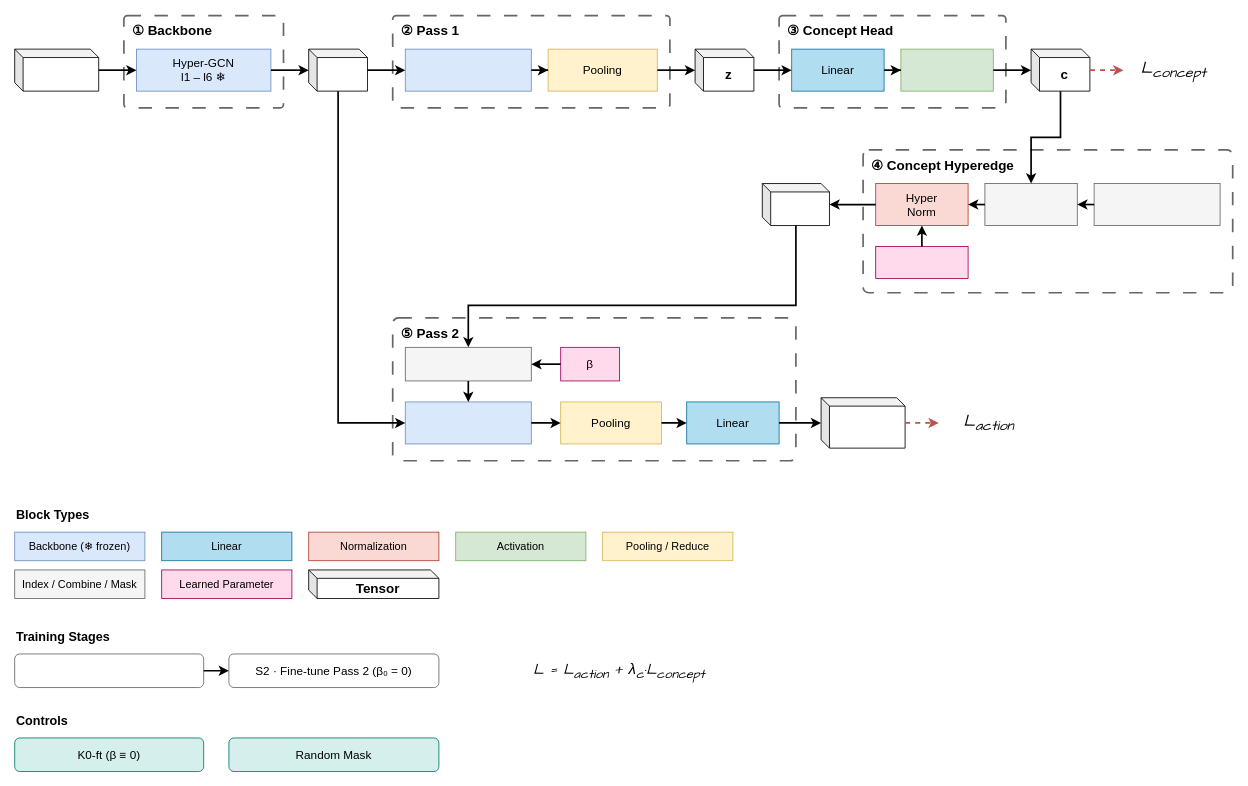
This 1248x786 diagram has some shape labels left out. Here are the shapes that lost their labels. From the top down, the centre of each, then its label:
the point at 56,69: Skeleton
the point at 338,69: F 6
the point at 467,69: Hyper-GCN l7 – l9 ❄
the point at 946,69: Sigmoid
the point at 795,204: G KG
the point at 1030,204: Weight by c
the point at 1156,204: Concept → Joint Mask
the point at 921,262: W KG
the point at 467,363: A + β·G KG
the point at 467,422: Hyper-GCN l7′ – l9′
the point at 862,422: Action logits
the point at 109,670: S1 · Concept Head
